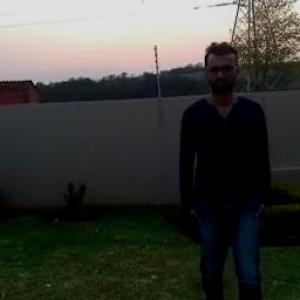follow: (182, 37, 273, 299)
